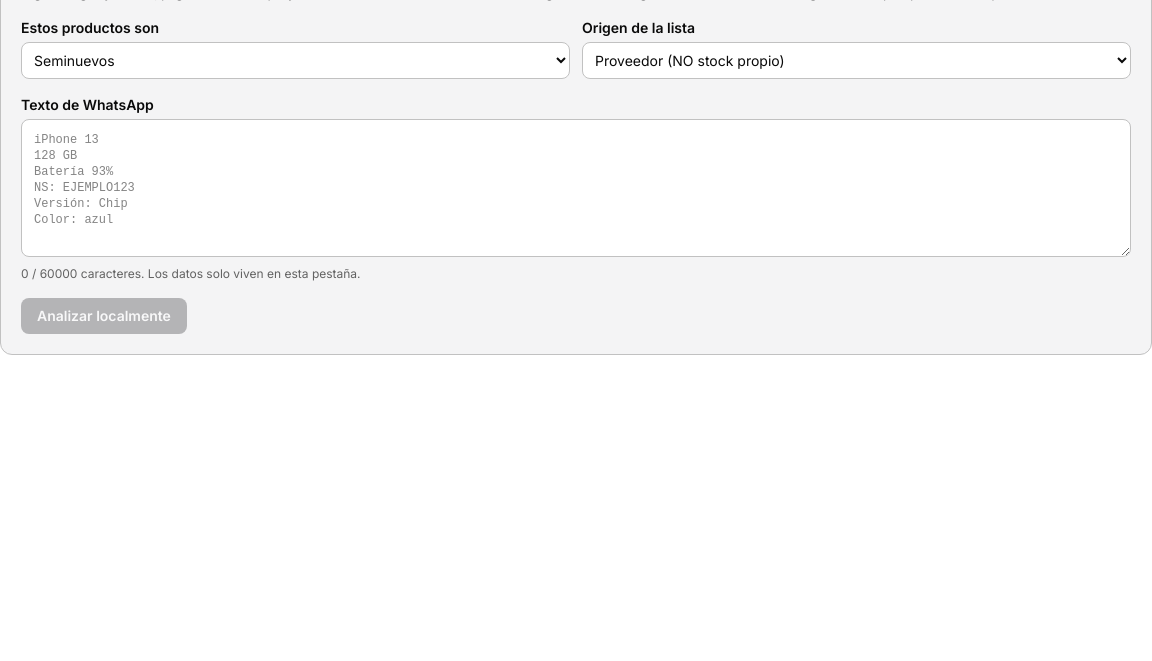
Test: flujo en pantalla › las filas que el importador rechaza vuelven como «necesitan revisión»
Select "Nuevos" in the dropdown named "Línea declarada": [296, 60] box [21,42,570,79]
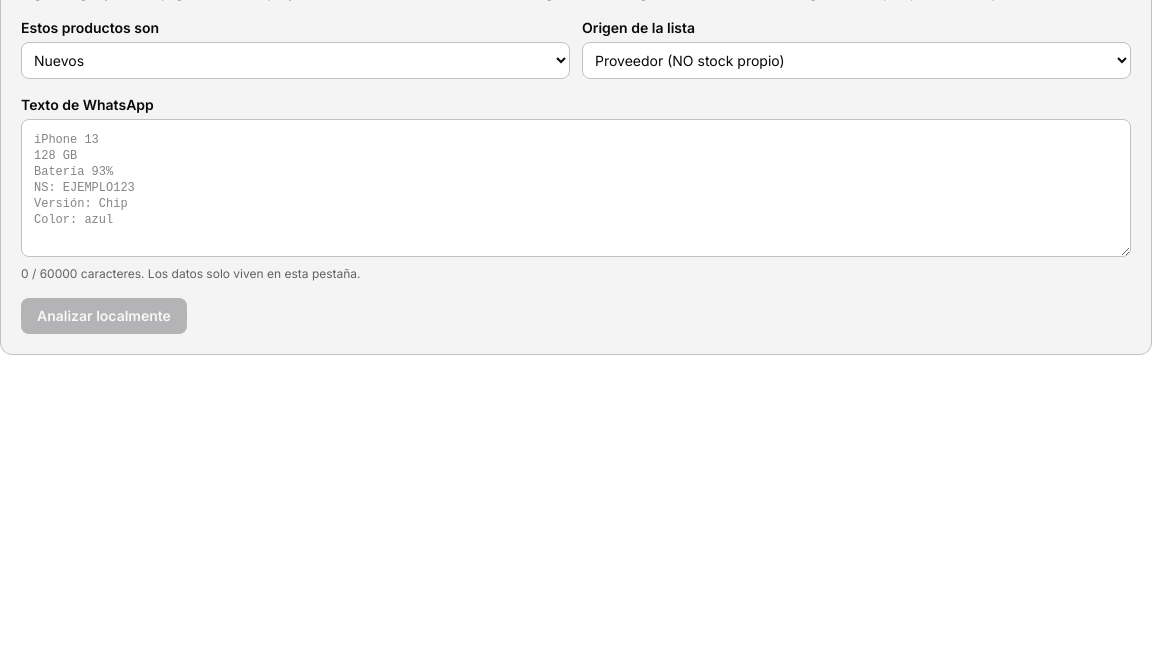
Select "Proveedor (NO stock propio)" in the dropdown named "Origen declarado": [856, 60] box [582,42,1131,79]
Replace the text in the text box named "Texto para reconocer" with "IPH 15 128 2300 negro": [576, 188] box [21,119,1131,257]
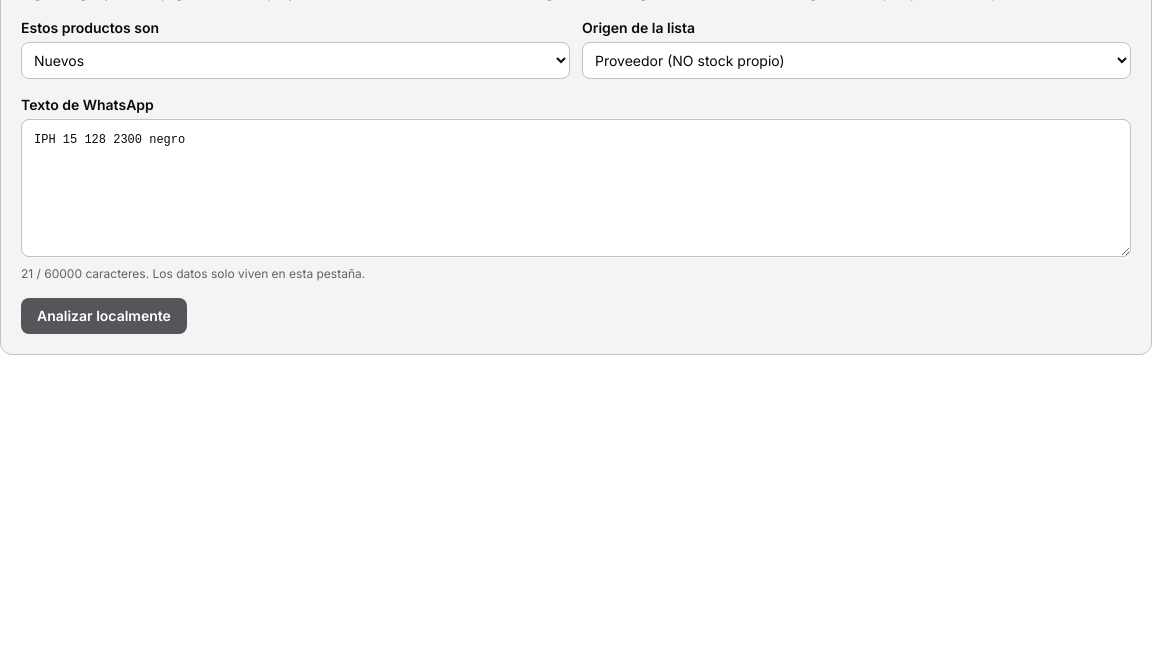
Click the button "Analizar localmente": [104, 316] box [21,298,187,334]
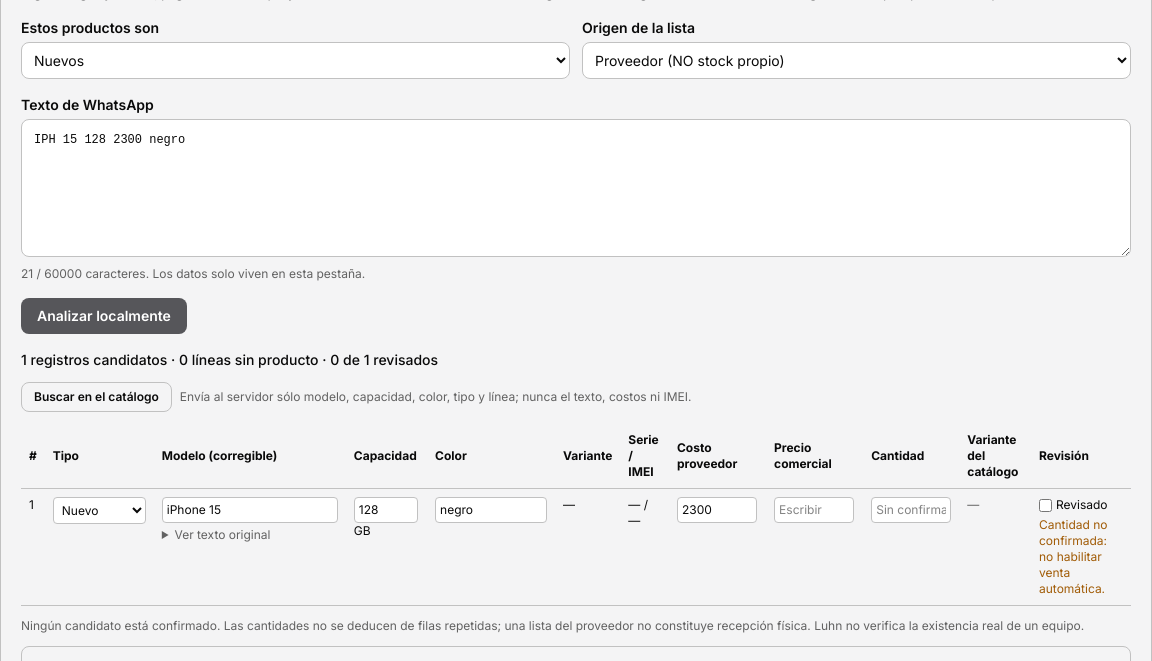
Click the button "Buscar en el catálogo": [96, 397] box [21,382,172,412]
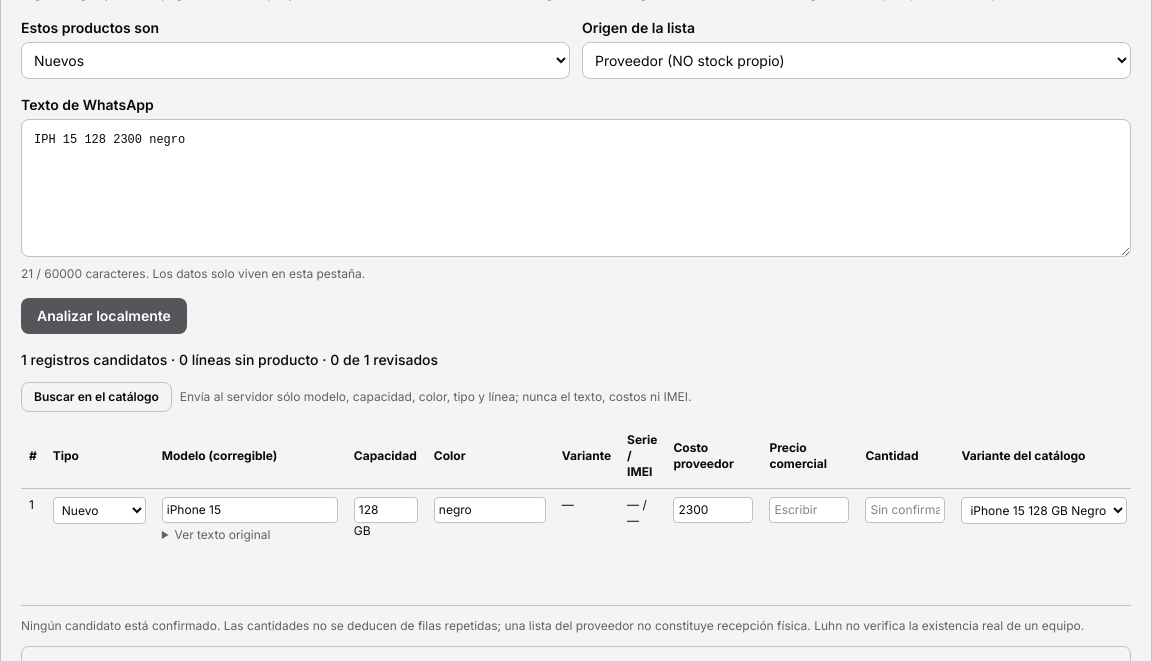
In the field named "Precio comercial del registro 1": [809, 510] box [769,497,849,523], type "2999"
(page scrolled)
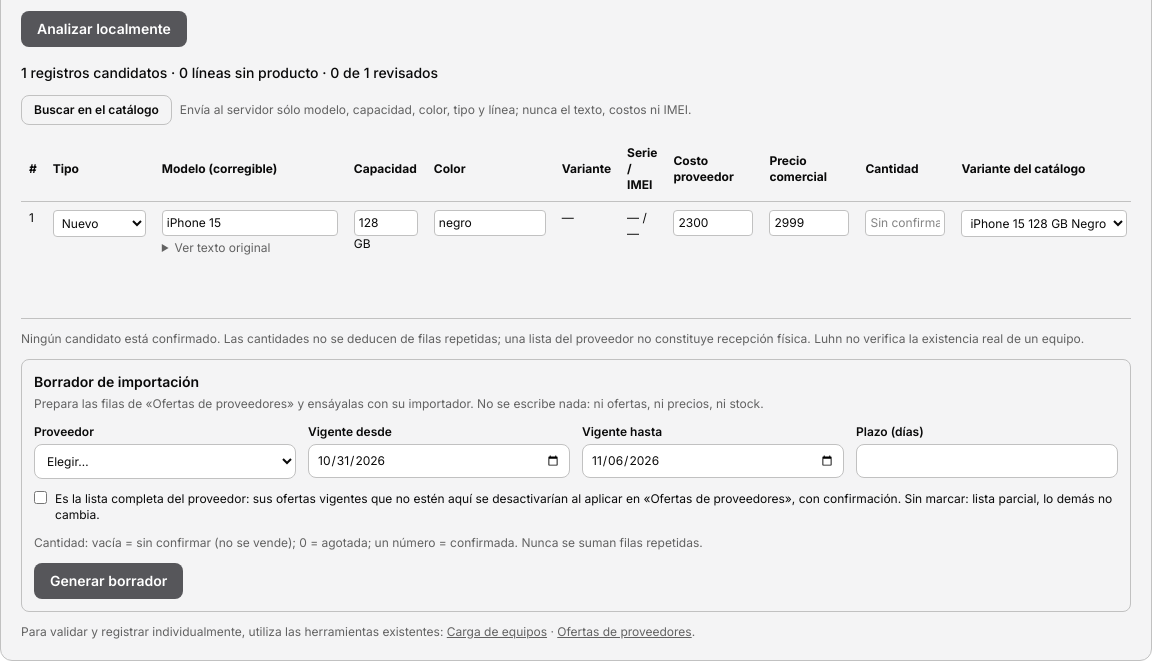
Select "Mayorista" in the dropdown named "Proveedor del borrador": [165, 462] box [34,444,296,479]
Click the button "Generar borrador": [109, 581] box [34,563,183,599]
(page scrolled)
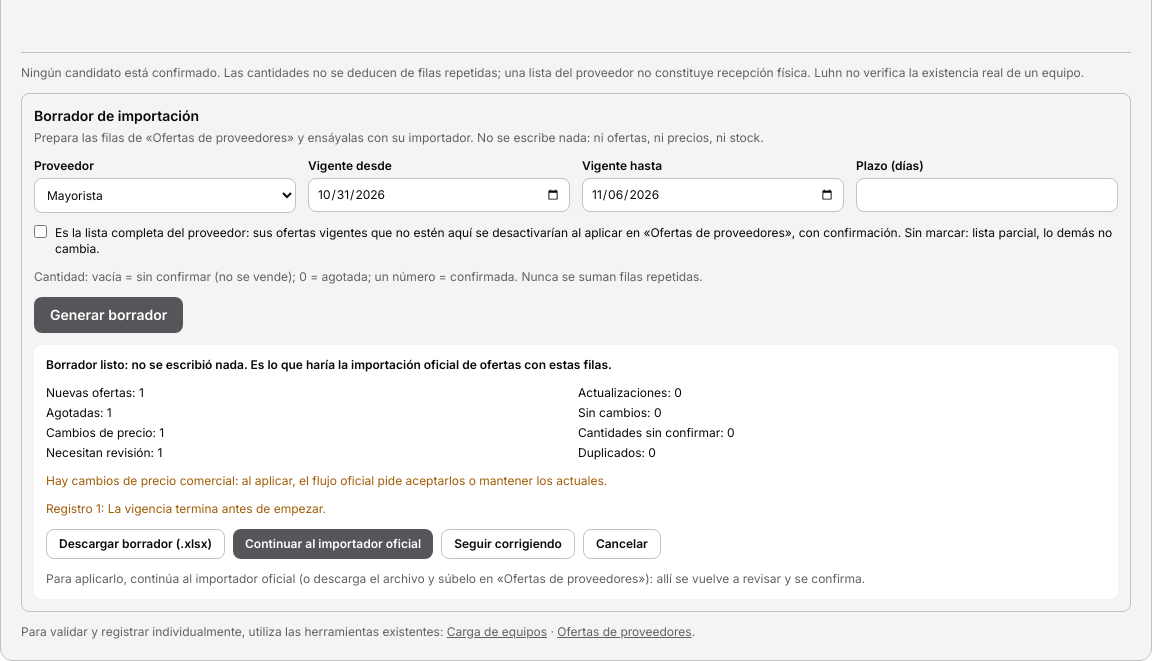
Expected: the list item "Necesitan revisión: 1" is shown, [46,445,162,460]
Expected: the list item "Registro 1: La vigencia termina antes de empezar." is shown, [46,501,326,516]
